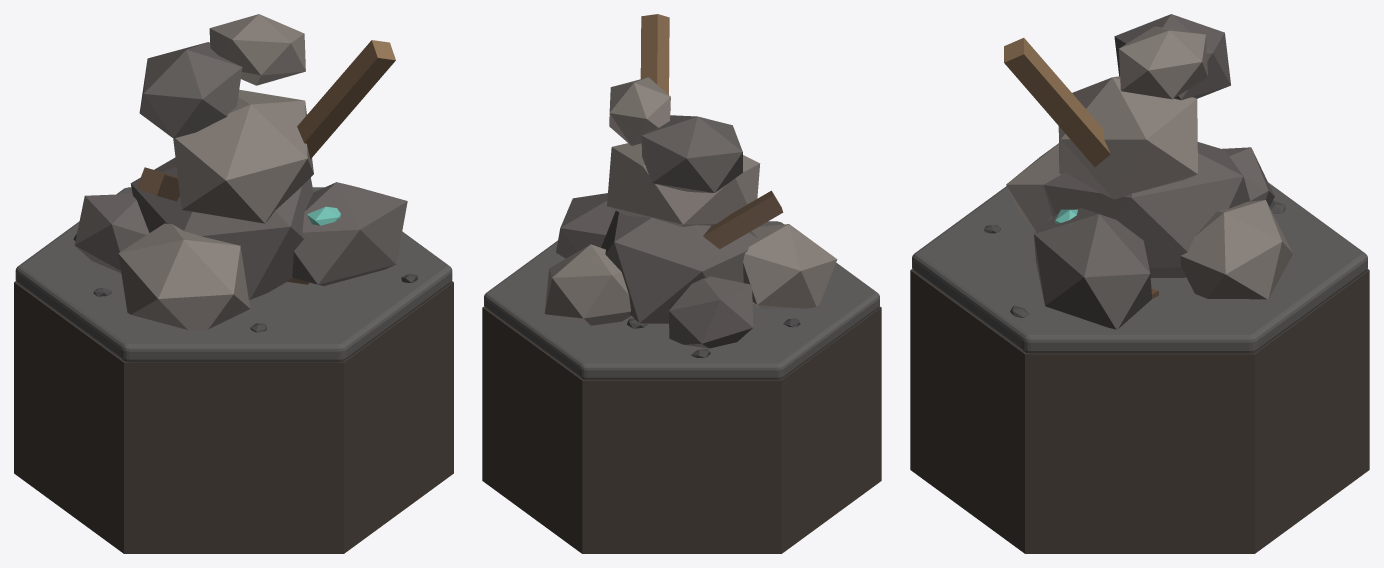
File: hex_rubble.glb
The picture shows the model from 3 angles, left to right: view 1: azimuth 30°, elevation 25°; view 2: azimuth 150°, elevation 25°; view 3: azimuth 270°, elevation 25°; orthographic projection. The views are drawn at different scales.
Visible parts, largest first — view 1: hex_rubble; view 2: hex_rubble; view 3: hex_rubble.
Boxes of the visible parts, <box> form: hex_rubble: <box>14,14,453,553</box>; hex_rubble: <box>482,14,881,553</box>; hex_rubble: <box>910,14,1369,553</box>.
Bounding box in the file's own units: 1.7 × 2.23 × 1.96.
